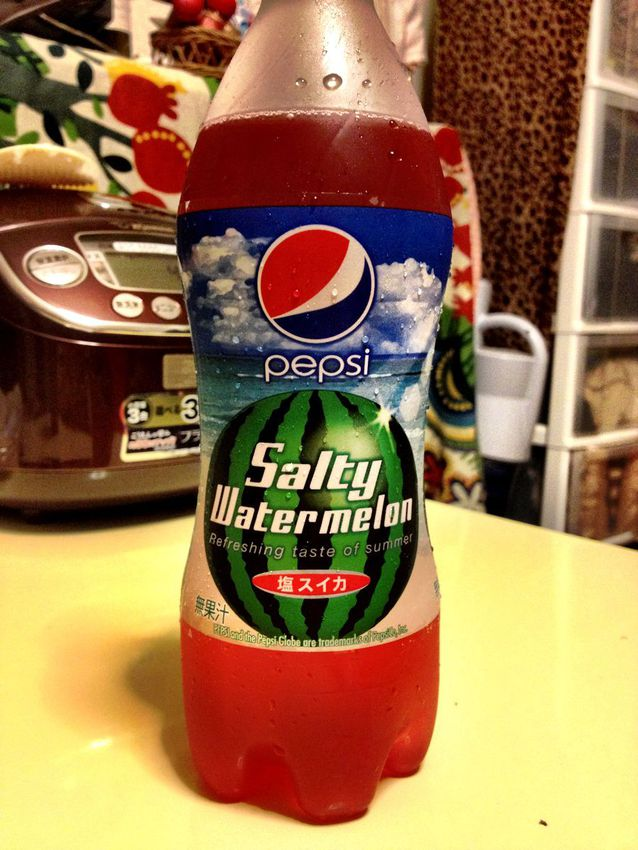pepsi: (254, 222, 377, 342)
